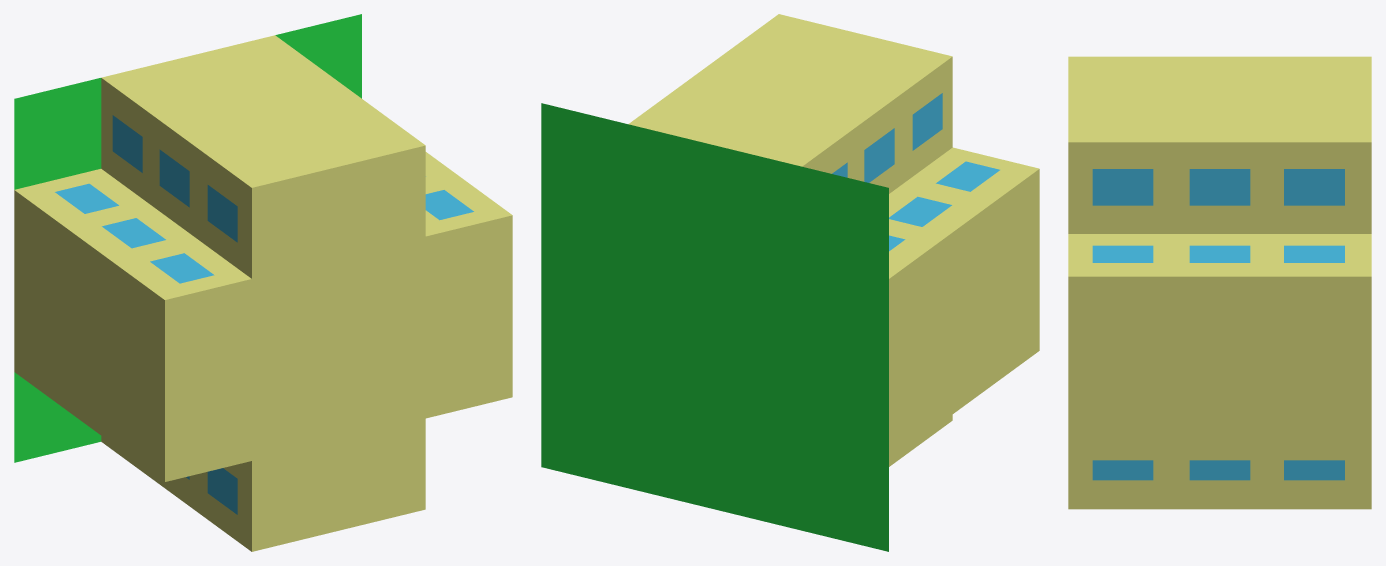
Rendered from building4.glb.
3 renders of one model, left to right at view 1: azimuth 30°, elevation 25°; view 2: azimuth 150°, elevation 25°; view 3: azimuth 270°, elevation 25°, orthographic.
Visible parts, largest first — view 1: Plane.001, Plane; view 2: Plane, Plane.001; view 3: Plane.001.
Boxes of the visible parts, x1=… form: Plane.001: x1=14, y1=35, x2=512, y2=551; Plane: x1=14, y1=14, x2=361, y2=462; Plane: x1=541, y1=103, x2=888, y2=551; Plane.001: x1=628, y1=14, x2=1039, y2=466; Plane.001: x1=1068, y1=56, x2=1371, y2=509.
Size of the model in its own units: 1 by 1 by 0.75.
